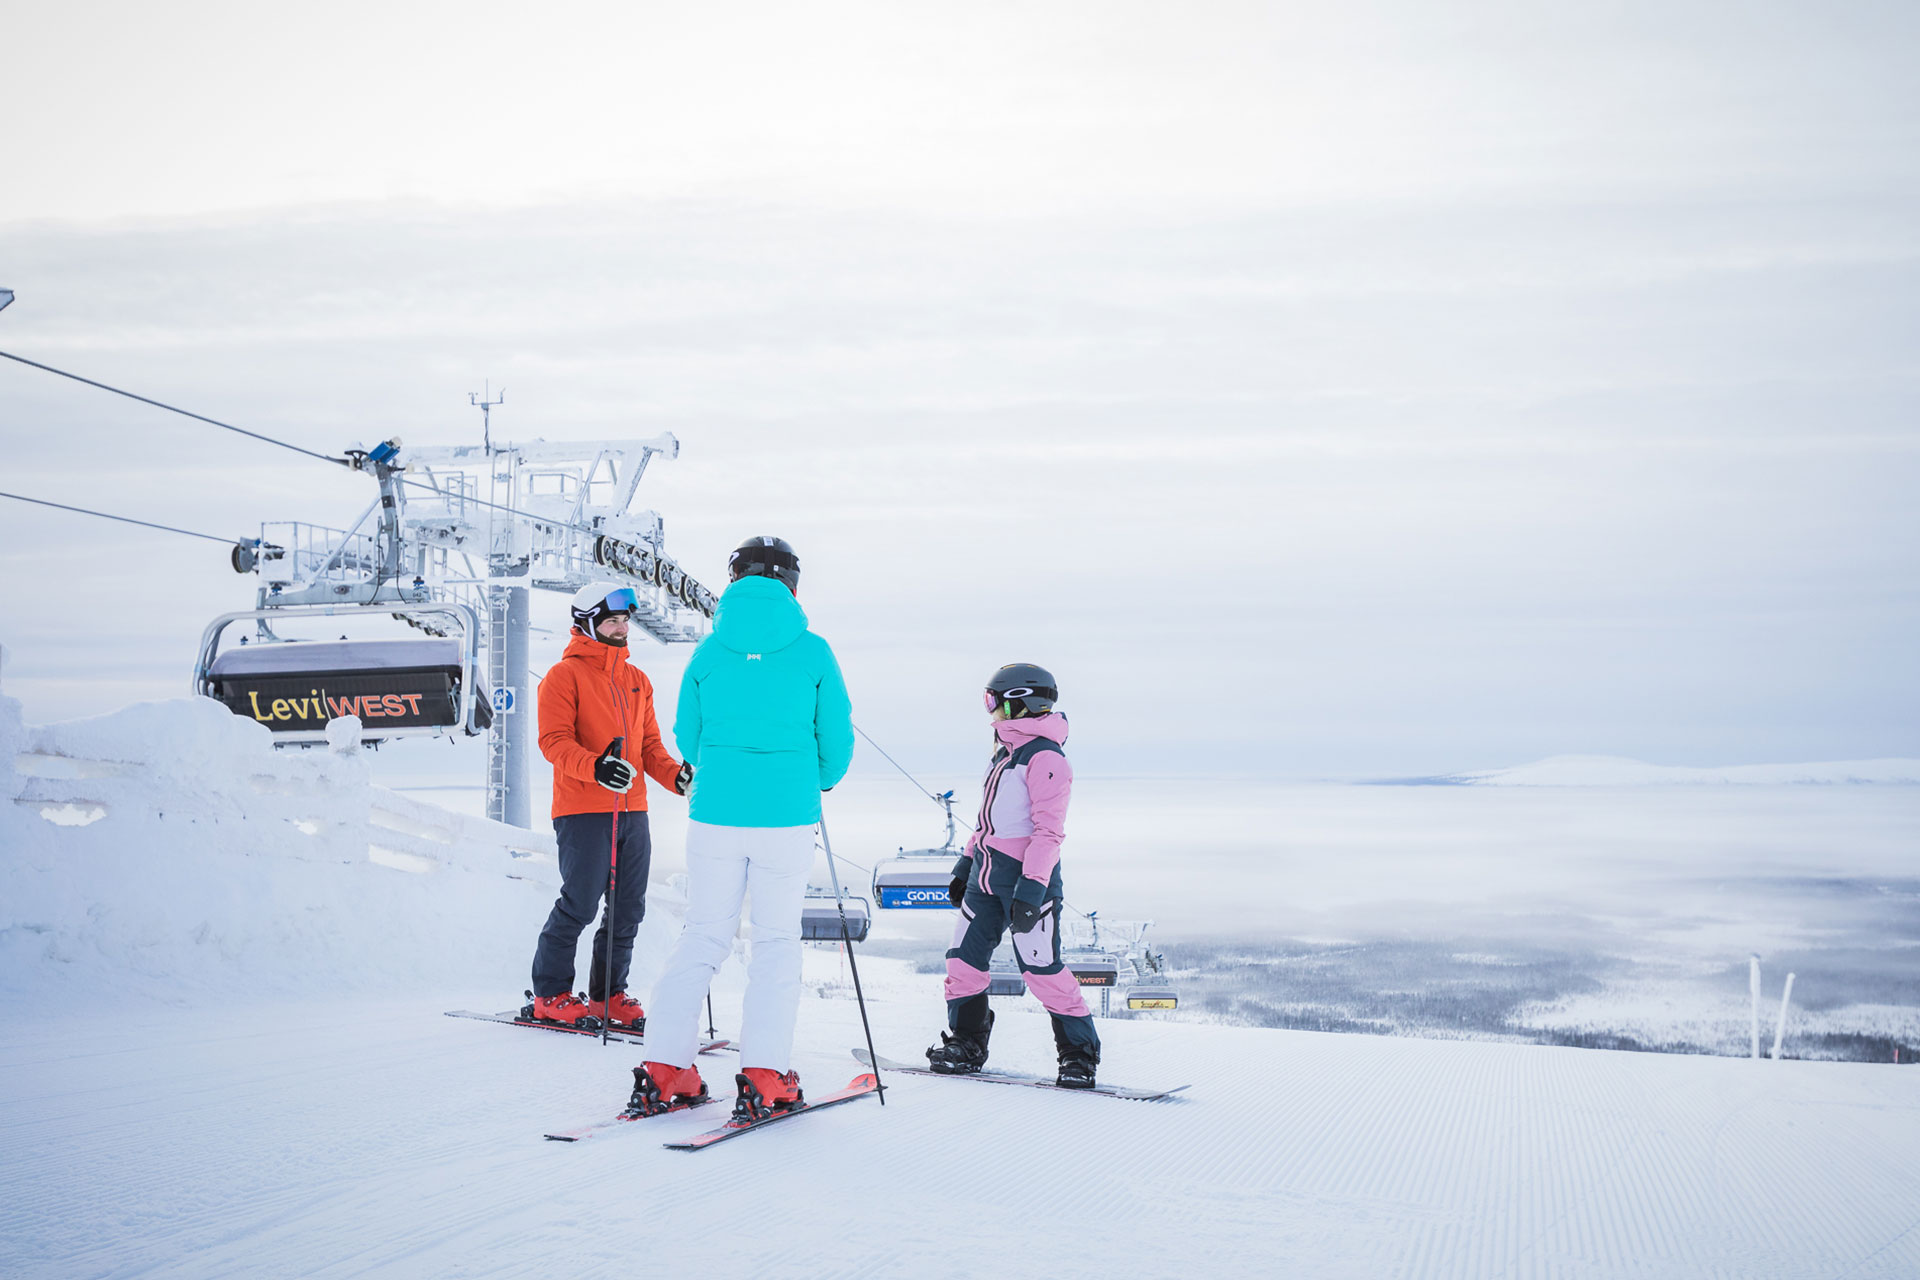skier: (537, 531, 884, 1189)
snowboarder: (849, 656, 1210, 1107)
